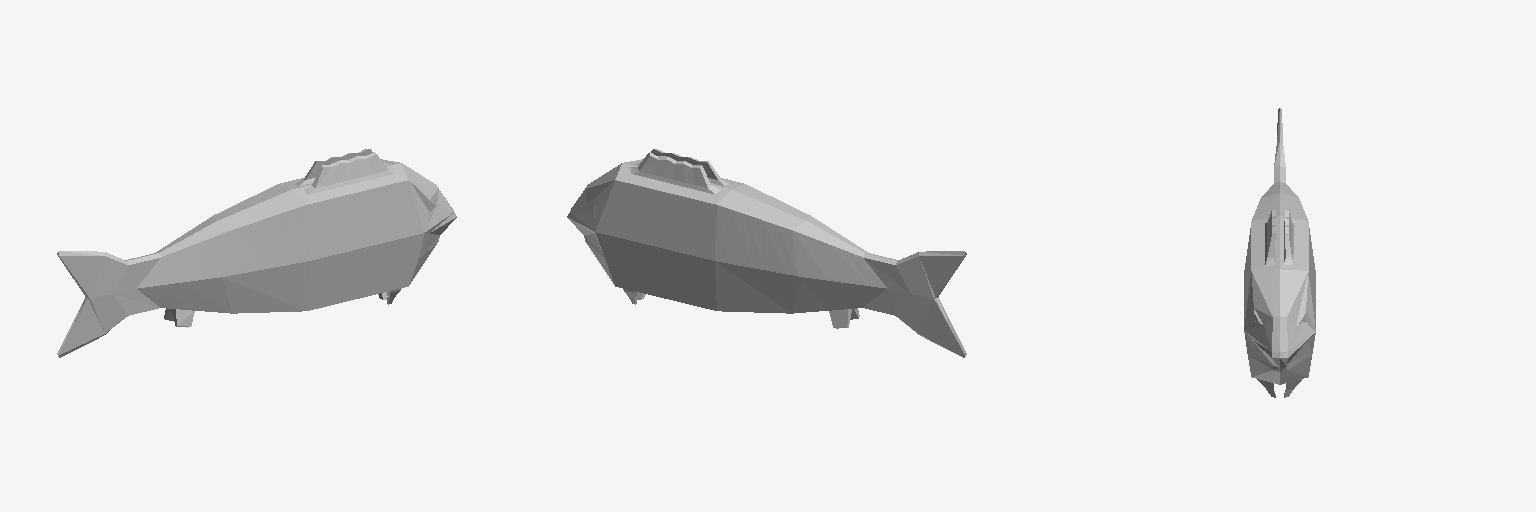
The model's file is Fish.obj.
3 views of the same model, side by side, from view 1: azimuth 30°, elevation 25°; view 2: azimuth 150°, elevation 25°; view 3: azimuth 270°, elevation 25° (orthographic).
Parts seen in each view (by area): view 1: Fish; view 2: Fish; view 3: Fish.
Part boxes in pixels (x1,y1,x2,y2): Fish: (57,149,456,357); Fish: (567,149,966,357); Fish: (1244,108,1315,397).
Bounding box in the file's own units: 7.79 × 2.91 × 1.23.